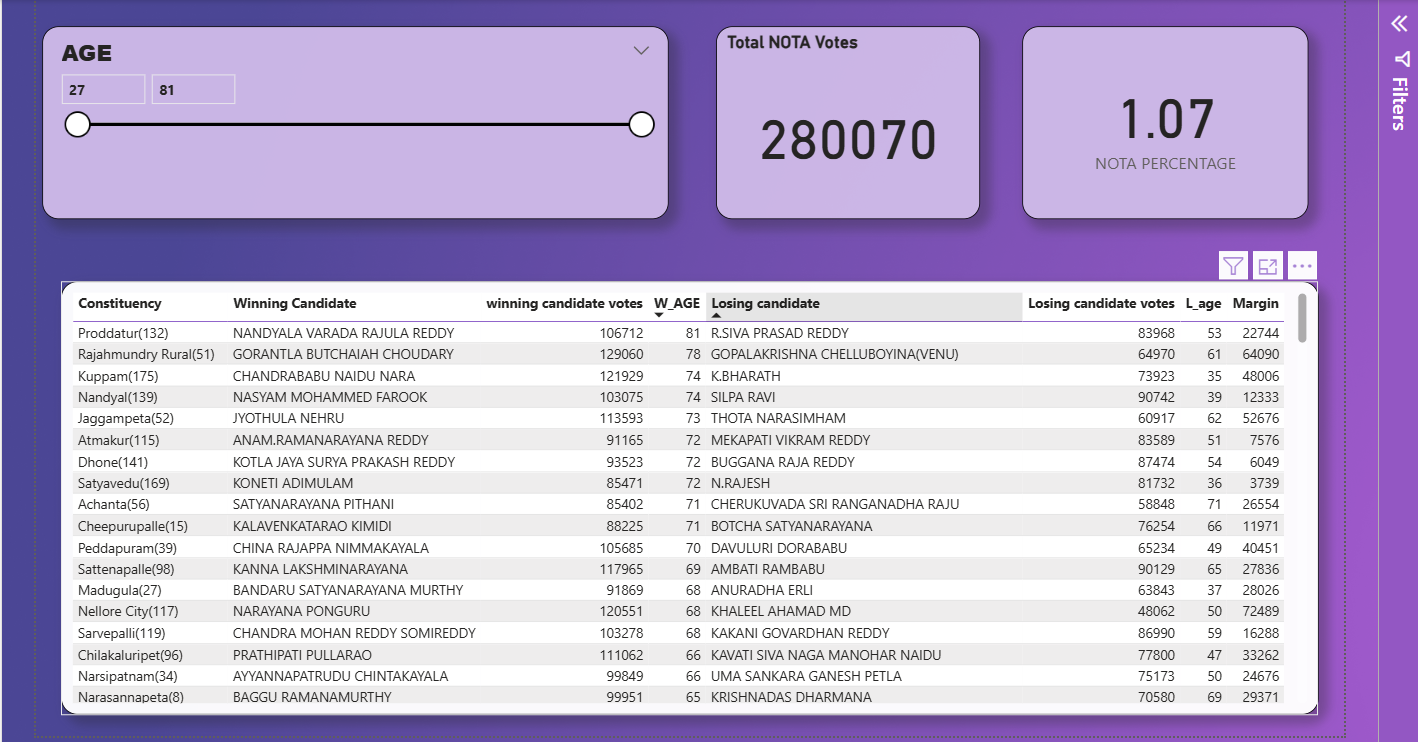

The page's visual inventory and layout, read from the dashboard file:
{"tool":"powerbi","page":{"name":"Page 2","canvas":[1280,720],"ordinal":1},"visuals":[{"type":"slicer","fields":{"Values":["Sheet1.W_AGE"]},"box":[5.7,25.7,612.9,188.6],"z":1000},{"type":"tableEx","fields":{"Values":["Sheet1.Constituency","Sheet1.Winning Candidate","Sheet1.winning candidate votes","Sheet1.W_AGE","Sheet1.Losing candidate","Sheet1.Losing candidate votes","Sheet1. L_age","Sheet1.Margin"]},"box":[24.3,275.7,1230,424.3],"z":2000},{"type":"card","title":"Total NOTA Votes ","fields":{"Values":["Sum(Sheet1.NOTA)"]},"box":[665.7,25.7,258.6,188.6],"z":3000},{"type":"card","fields":{"Values":["Sheet1.Measure1"]},"box":[964.3,25.7,280,188.6],"z":5000}]}

Visuals, with their boxes in screenshot pixels (x1, y1, x2, y2):
slicer - Sheet1.W_AGE: (43,22,666,214)
tableEx - Sheet1.Constituency x Sheet1.Winning Candidate: (62,277,1312,708)
"Total NOTA Votes " card: (714,22,977,214)
card - Sheet1.Measure1: (1017,22,1302,214)
